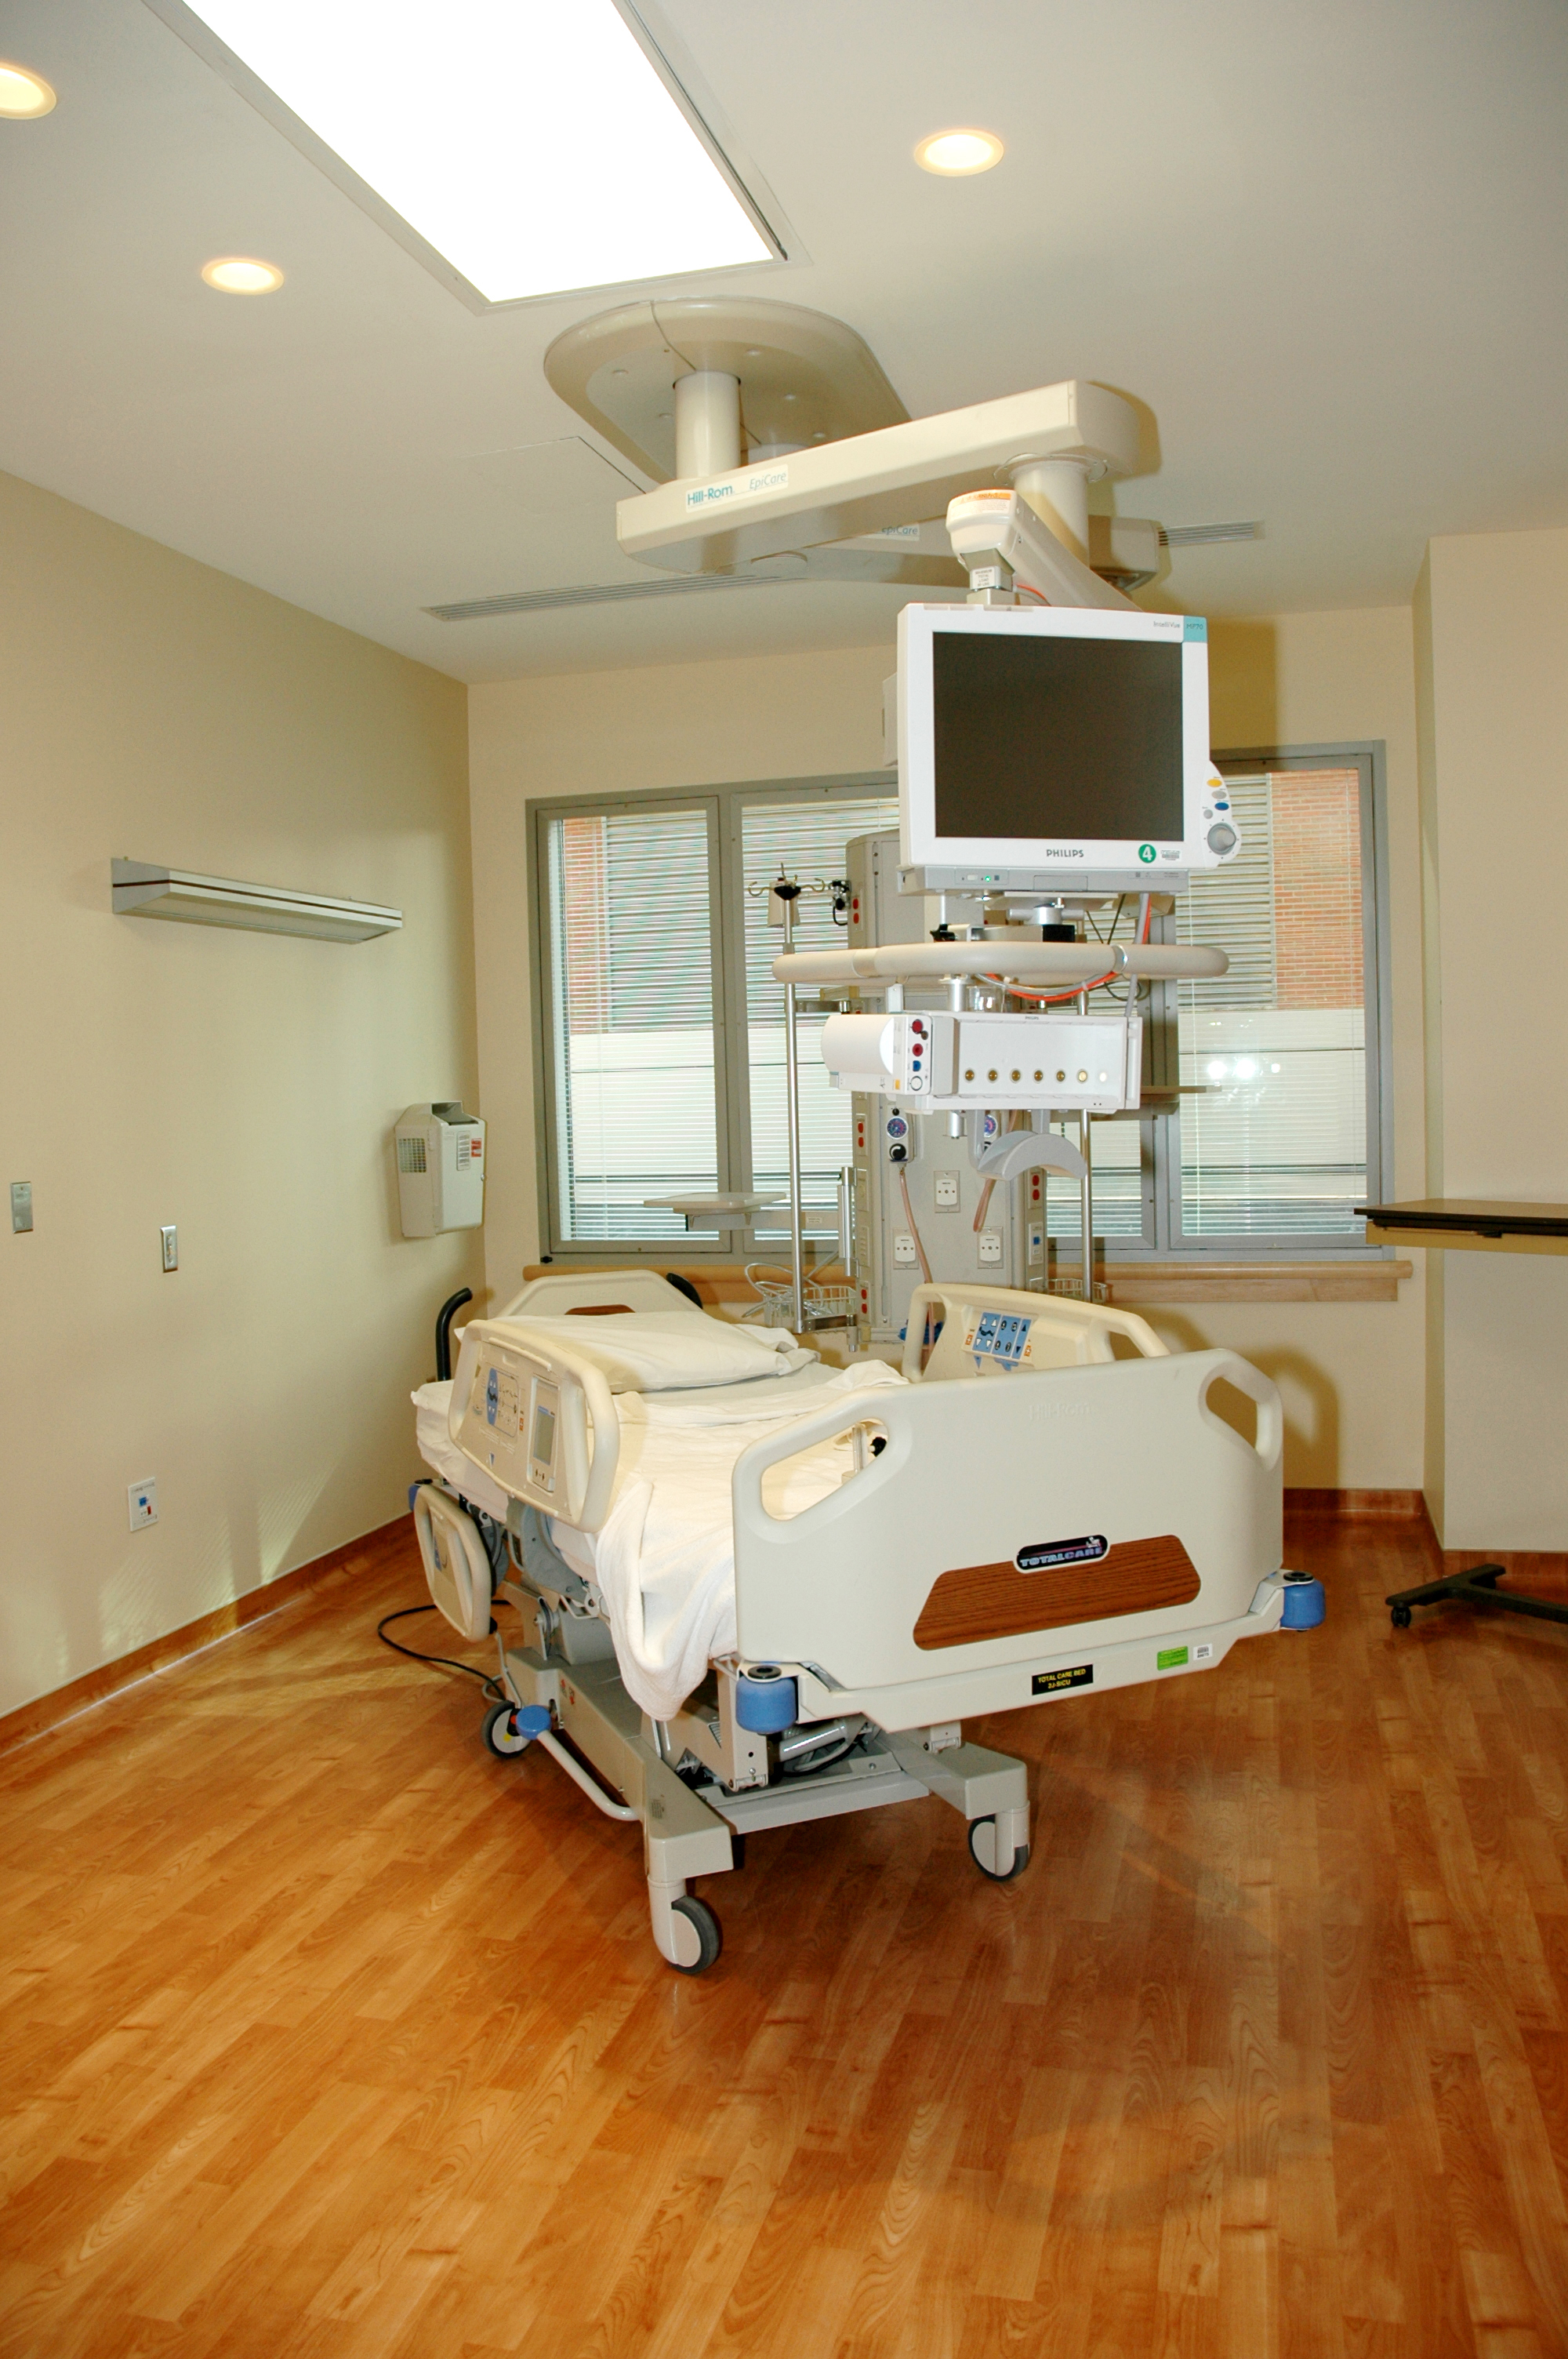bedrail: (448, 1319, 621, 1533), (900, 1281, 1169, 1383), (415, 1482, 490, 1645)
bedside_monitor: (889, 602, 1228, 891)
foot_board: (733, 1346, 1326, 1731)
hospital_bed: (409, 1270, 1321, 1974)
iv_pole: (747, 863, 826, 1332)
medical_waste_container: (395, 1104, 483, 1248)
overbed_table: (1374, 1190, 1568, 1636)
